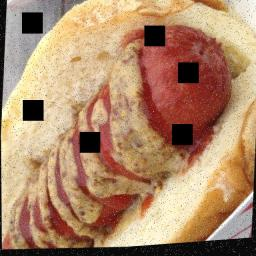hotdog: (132, 23, 238, 162)
